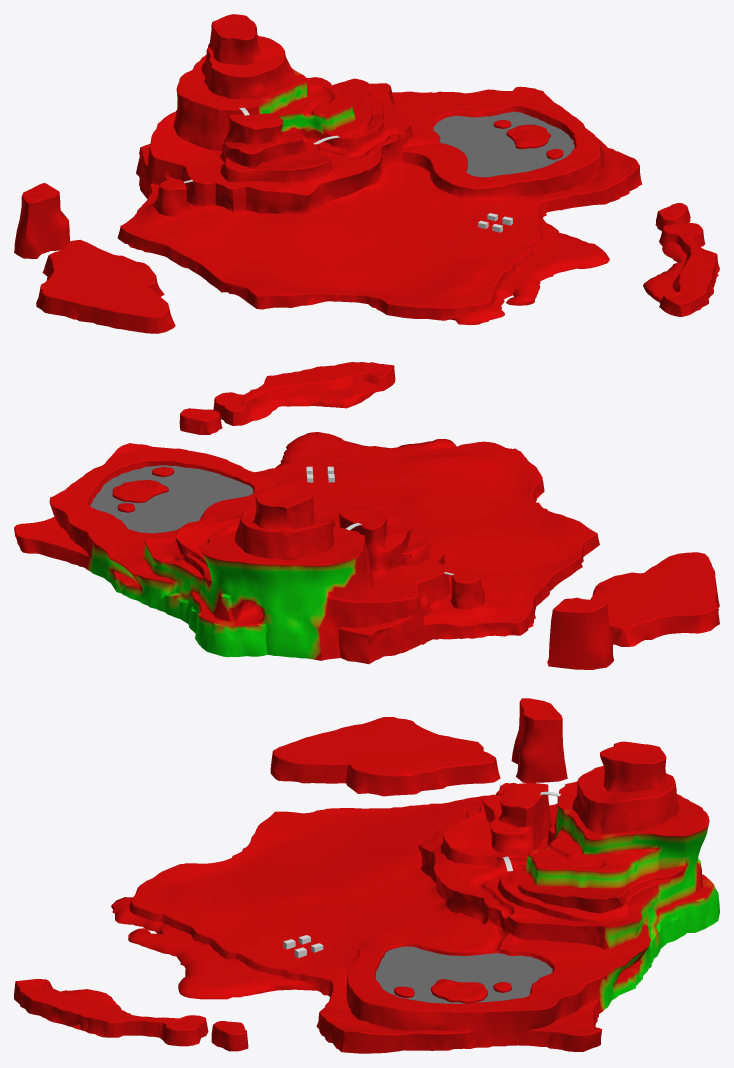
The model's file is world.fbx.
The picture shows the model from 3 angles, top to bottom: view 1: azimuth 30°, elevation 25°; view 2: azimuth 150°, elevation 25°; view 3: azimuth 270°, elevation 25°; orthographic projection. The views are drawn at different scales.
Visible parts, largest first — view 1: Ground, Lake Water; view 2: Ground, Lake Water; view 3: Ground, Lake Water.
Boxes of the visible parts, box(x1,y1,x2,y2) form: Ground: box(14, 14, 719, 333); Lake Water: box(433, 111, 574, 177); Ground: box(14, 362, 719, 669); Lake Water: box(90, 465, 253, 533); Ground: box(14, 698, 719, 1053); Lake Water: box(375, 946, 552, 1003).
Size of the model in its own units: 38.53 by 8.37 by 35.89.
